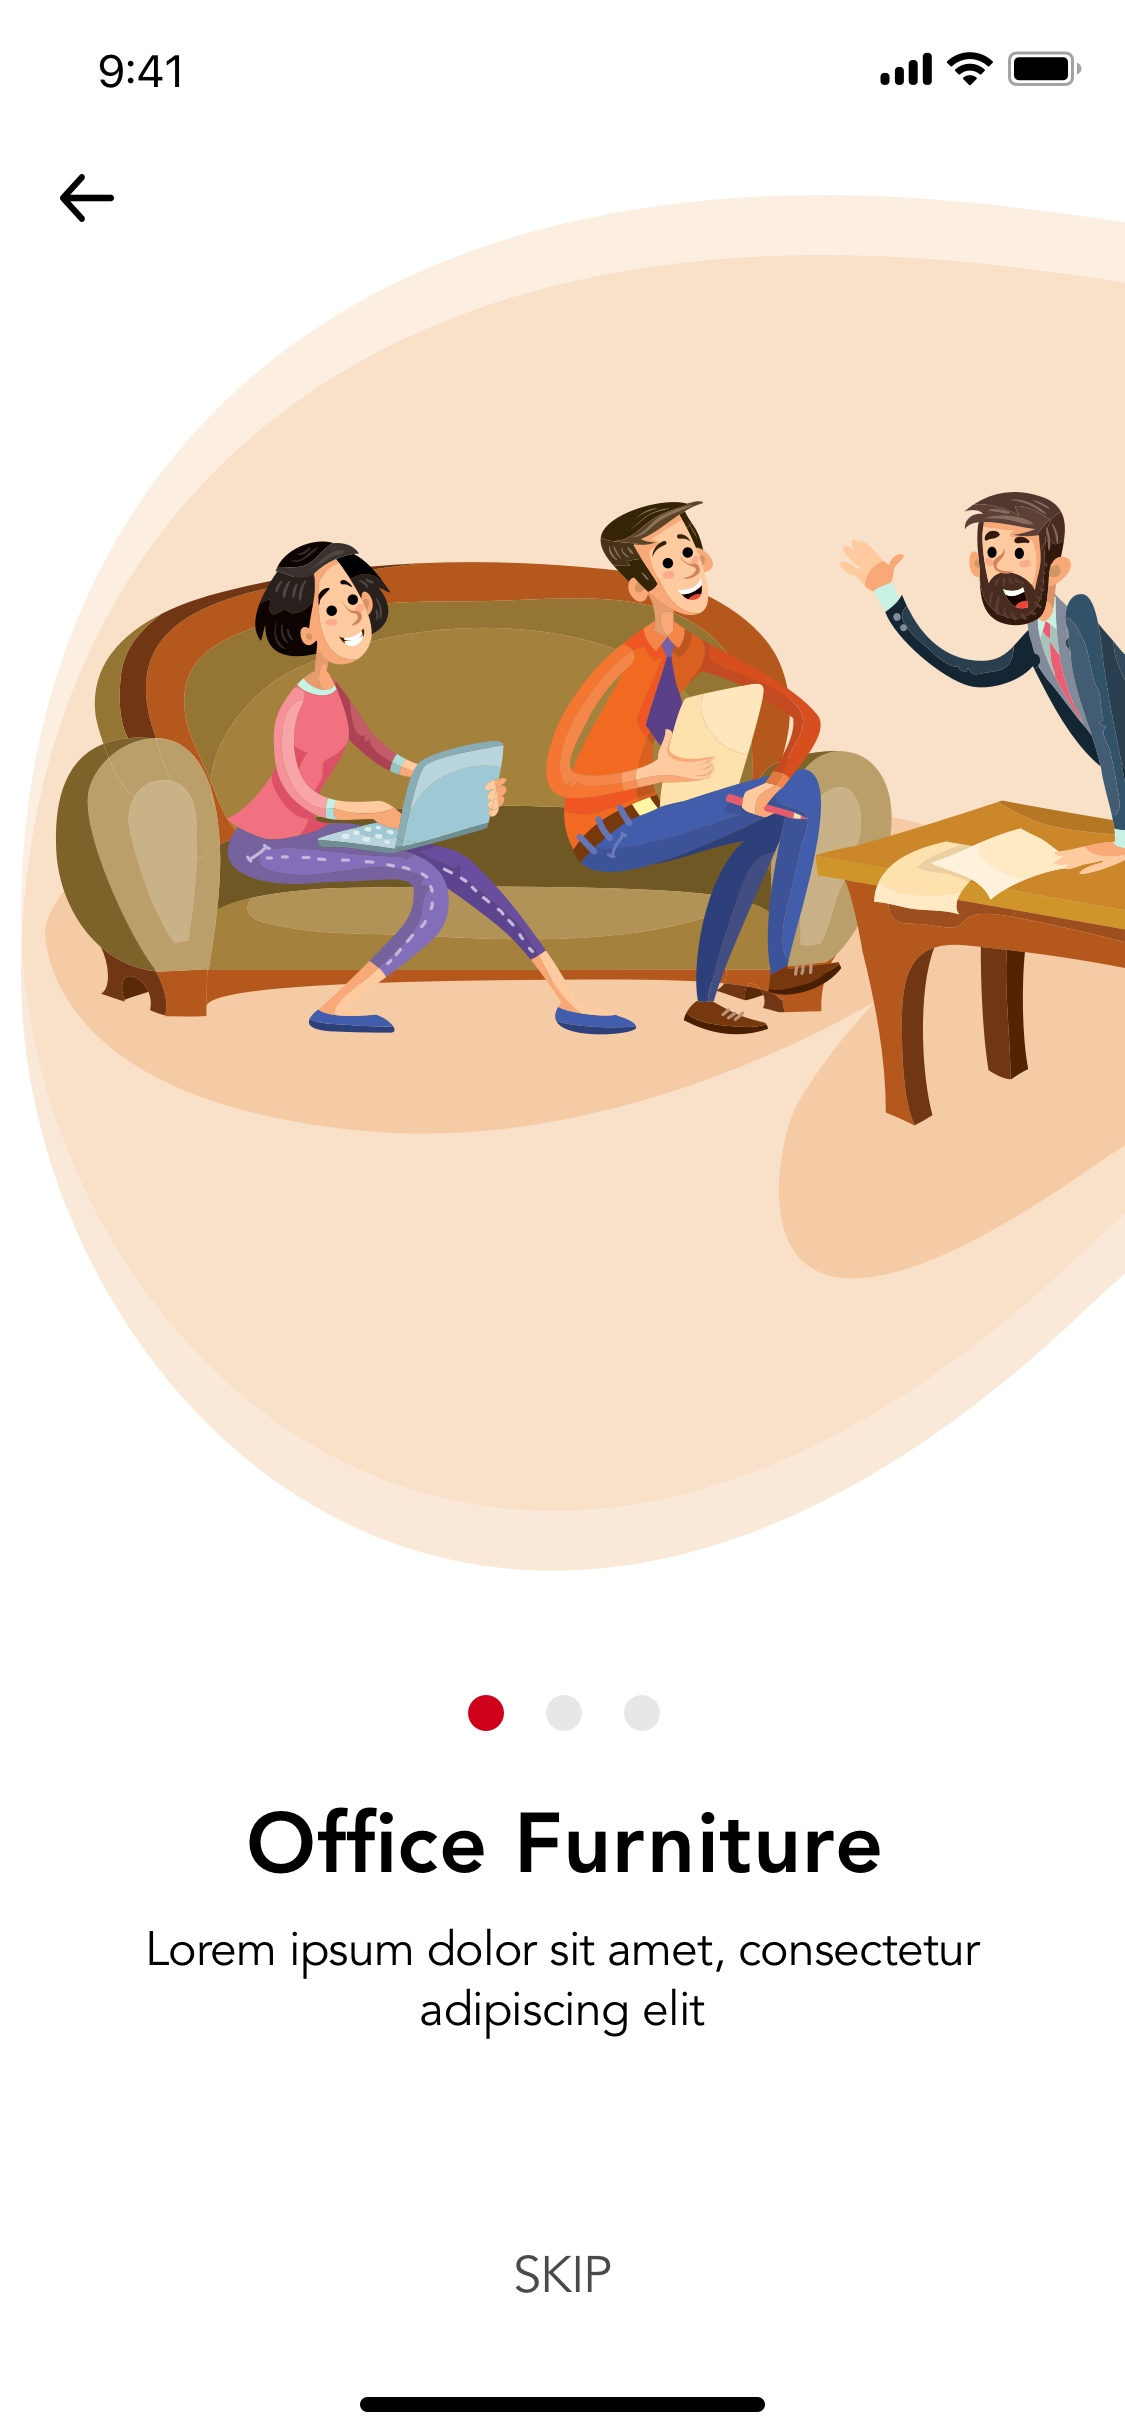Icon: (61, 174, 117, 224)
Image: (54, 488, 1125, 1126)
PageIndicator: (468, 1693, 662, 1732)
Text: (149, 1926, 980, 2041), (249, 1805, 881, 1875), (516, 2254, 611, 2295)
UpperTaskBar: (99, 50, 1083, 90)
